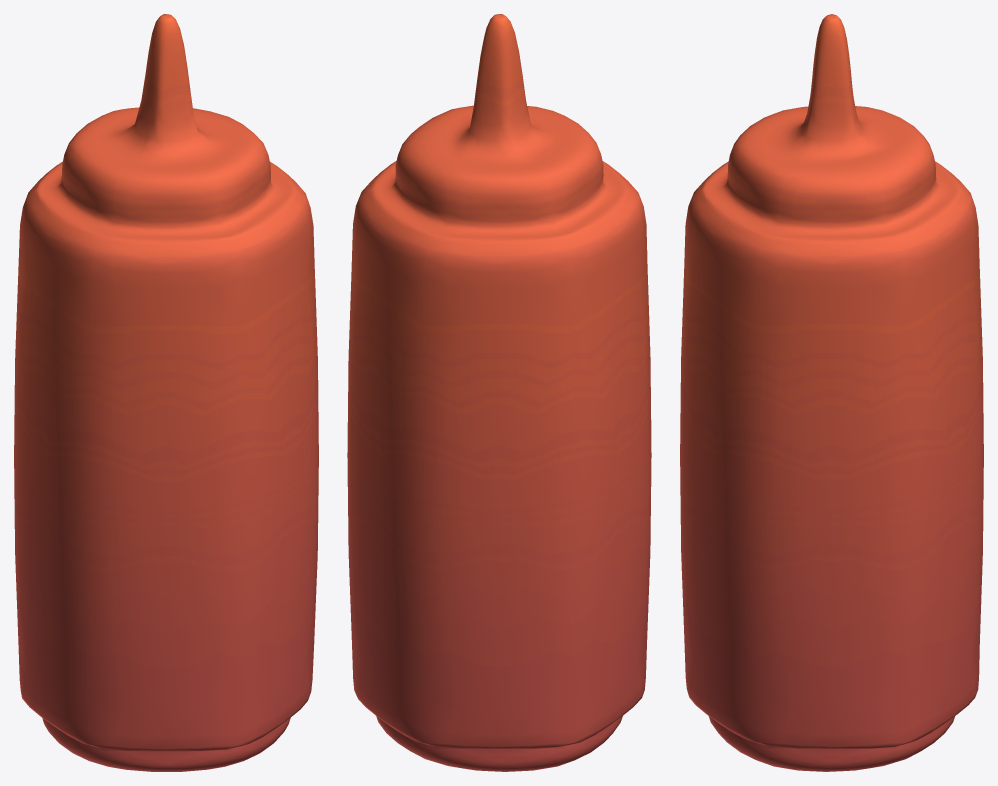
3 renders of one model, left to right at view 1: azimuth 30°, elevation 25°; view 2: azimuth 150°, elevation 25°; view 3: azimuth 270°, elevation 25°, orthographic.
Bounding box in the file's own units: 0.3666 × 1 × 0.3855.
Materials: 1 (1 with a texture image).
